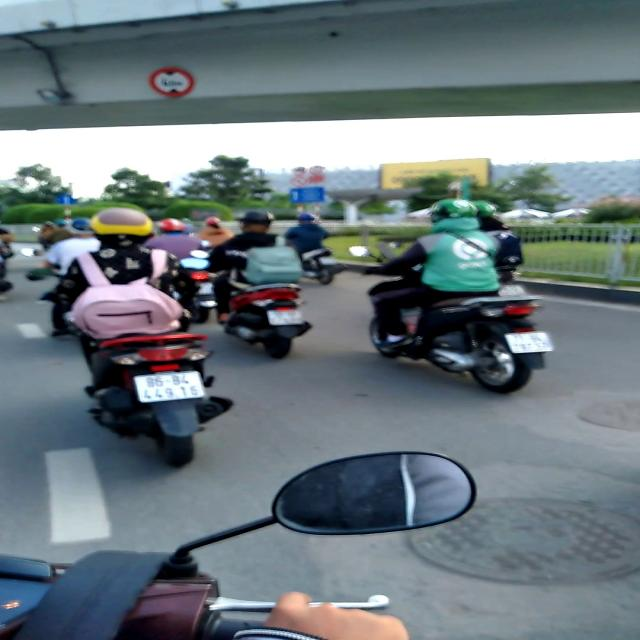P.117: (147, 66, 196, 98)
